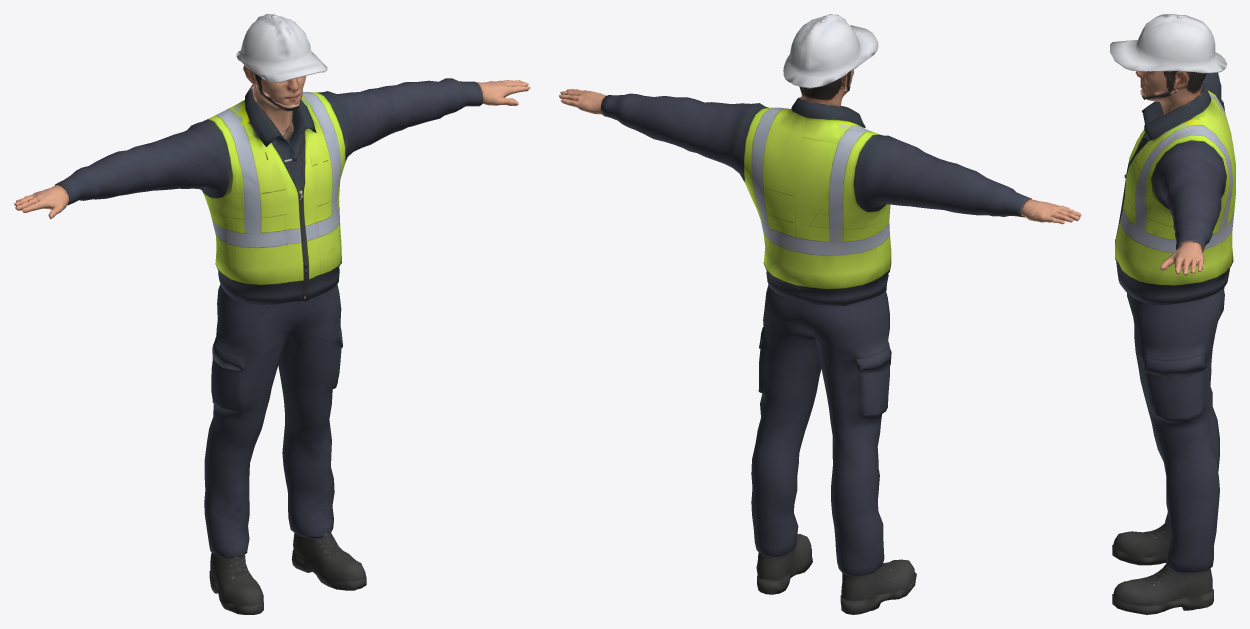
The model's file is 01a152b5-b51d-7b16-bae0-5d2e6e2edc3a.glb.
3 renders of one model, left to right at view 1: azimuth 30°, elevation 25°; view 2: azimuth 150°, elevation 25°; view 3: azimuth 270°, elevation 25°, orthographic.
Parts seen in each view (by area): view 1: tripo_node_873b947f-2581-452d-a852-cc0b82189544; view 2: tripo_node_873b947f-2581-452d-a852-cc0b82189544; view 3: tripo_node_873b947f-2581-452d-a852-cc0b82189544.
Part boxes in pixels (left/top/right/bottom): tripo_node_873b947f-2581-452d-a852-cc0b82189544: left=14, top=14, right=530, bottom=614; tripo_node_873b947f-2581-452d-a852-cc0b82189544: left=559, top=14, right=1081, bottom=614; tripo_node_873b947f-2581-452d-a852-cc0b82189544: left=1110, top=14, right=1235, bottom=614.
Bounding box in the file's own units: 0.9473 × 0.998 × 0.2012.
Materials: 1 (1 with a texture image).
